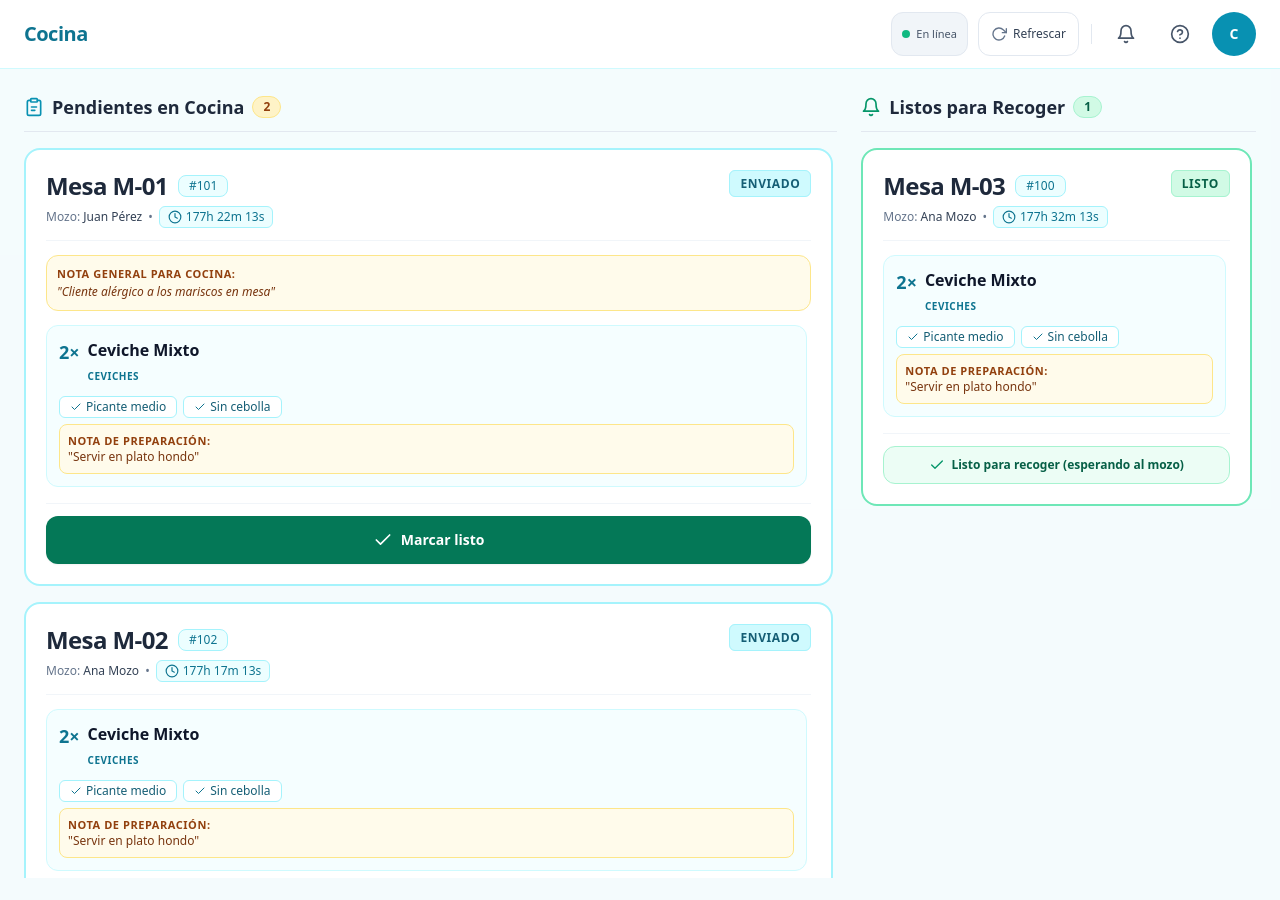
Test: Kitchen Flow (Spec 004 KDS) › handles 409 VERSION_CONFLICT by displaying error banner and resyncing board
The width and height of the screenshot is (1280, 900).
Expected: the heading "Mesa M-01" is shown, [46, 170, 168, 202]
Click the button "Marcar listo".
click(429, 540)  # box [46, 516, 811, 564]
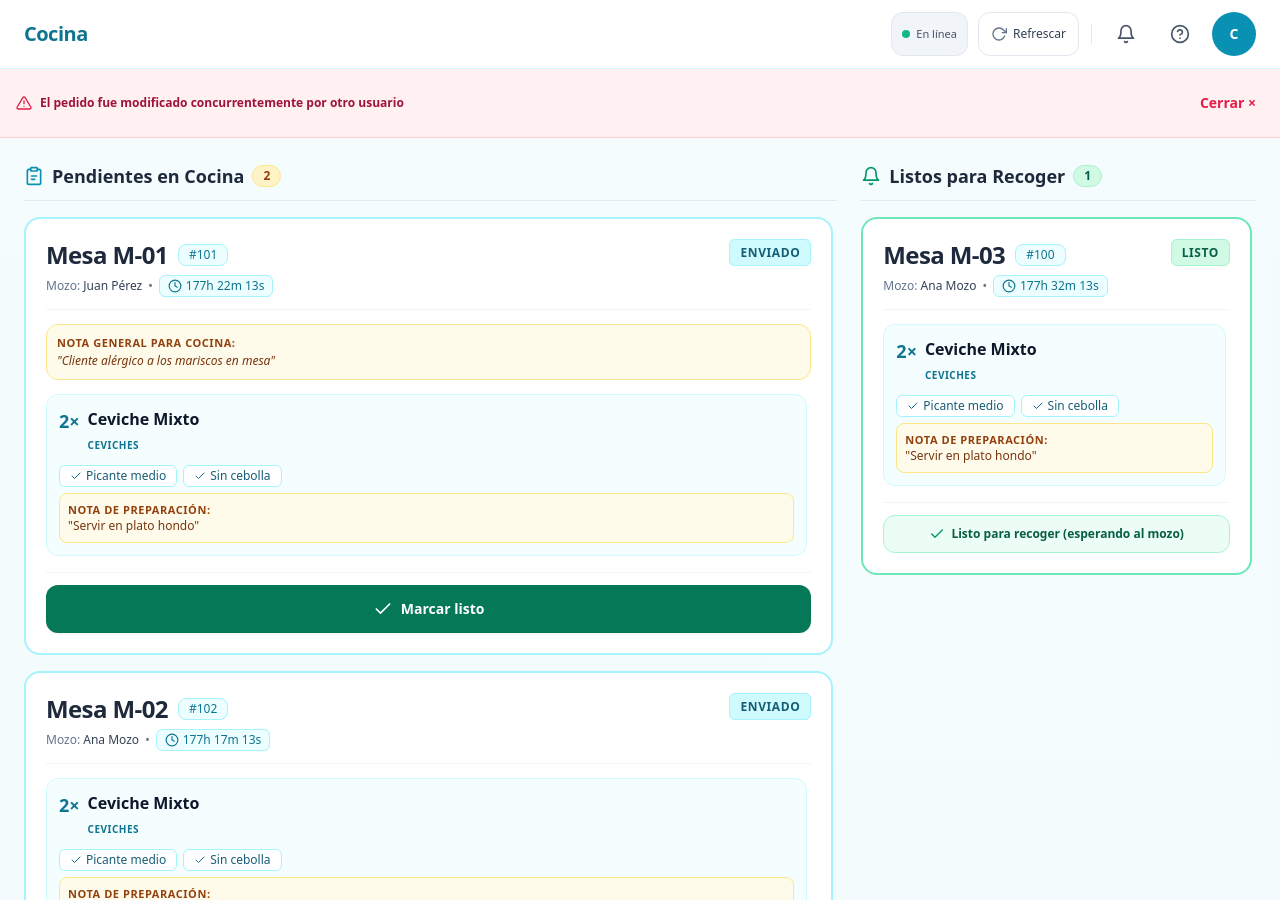
Now the message shows "modificado concurrentemente", box [40, 94, 404, 111]
